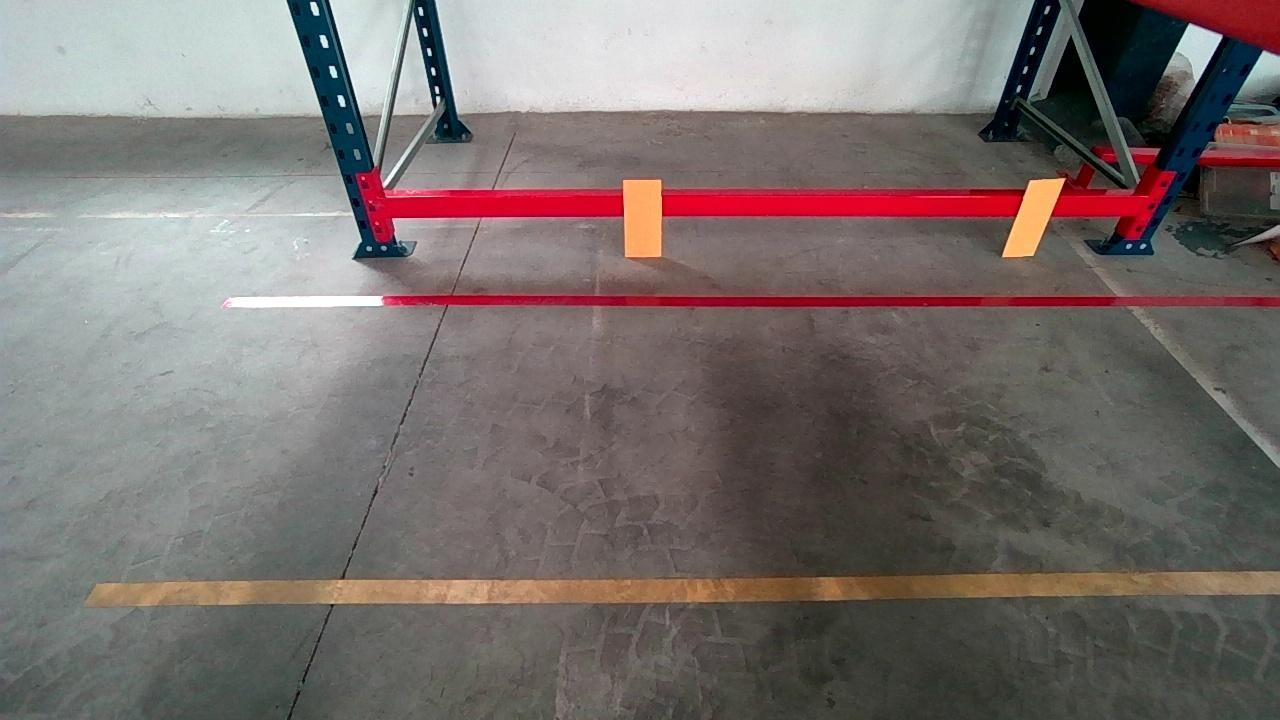h_rack: (378, 195, 1142, 216)
orange_strip: (1003, 177, 1066, 256), (624, 178, 663, 255)
red_line: (221, 296, 1279, 309)
yellow_line: (82, 572, 1280, 603)
